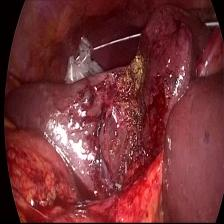Specimen Bag: (57, 33, 104, 88)
